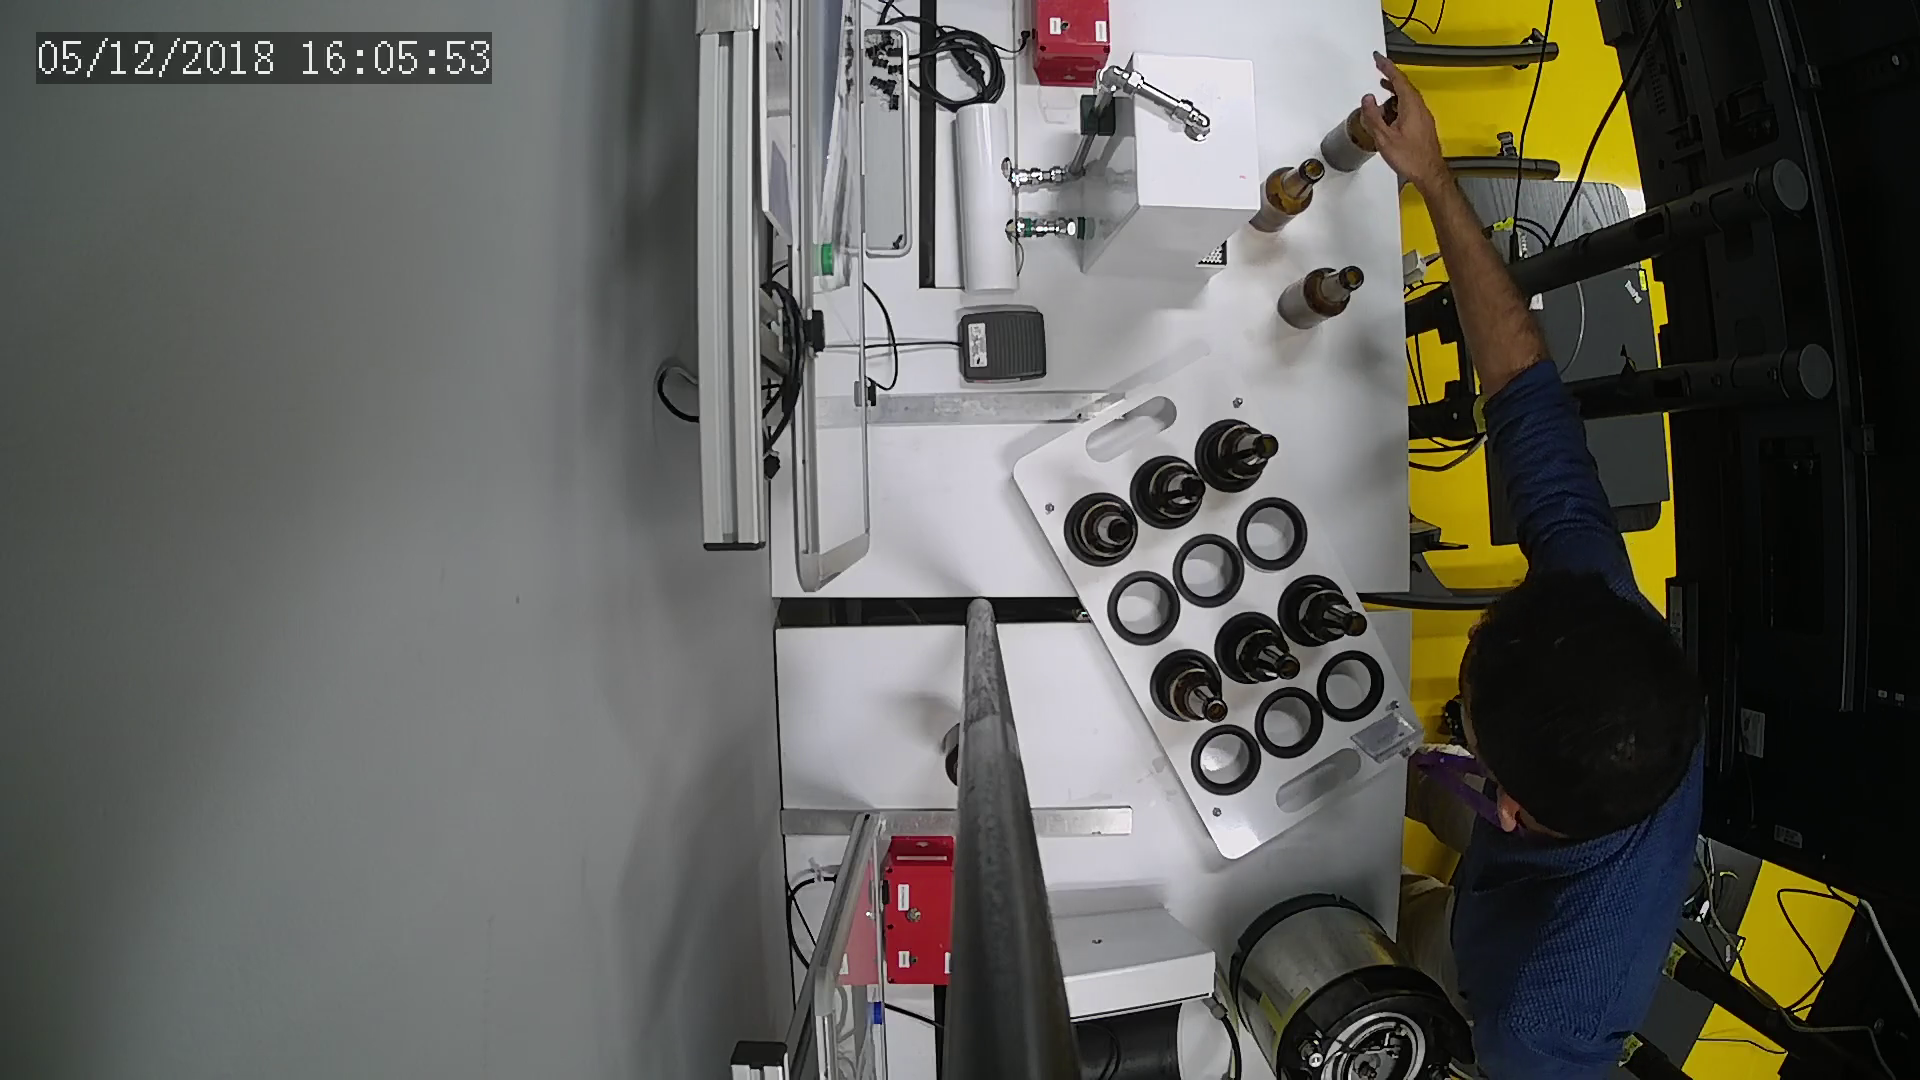filled_bottle: (1216, 615, 1304, 690), (1149, 653, 1232, 727), (1280, 580, 1370, 647), (1060, 495, 1137, 566), (1203, 419, 1279, 484), (1137, 459, 1208, 527)
trolley: (1007, 349, 1429, 861)
unfilled_bottle: (1247, 153, 1327, 236), (1276, 265, 1366, 332), (1320, 99, 1396, 174)
